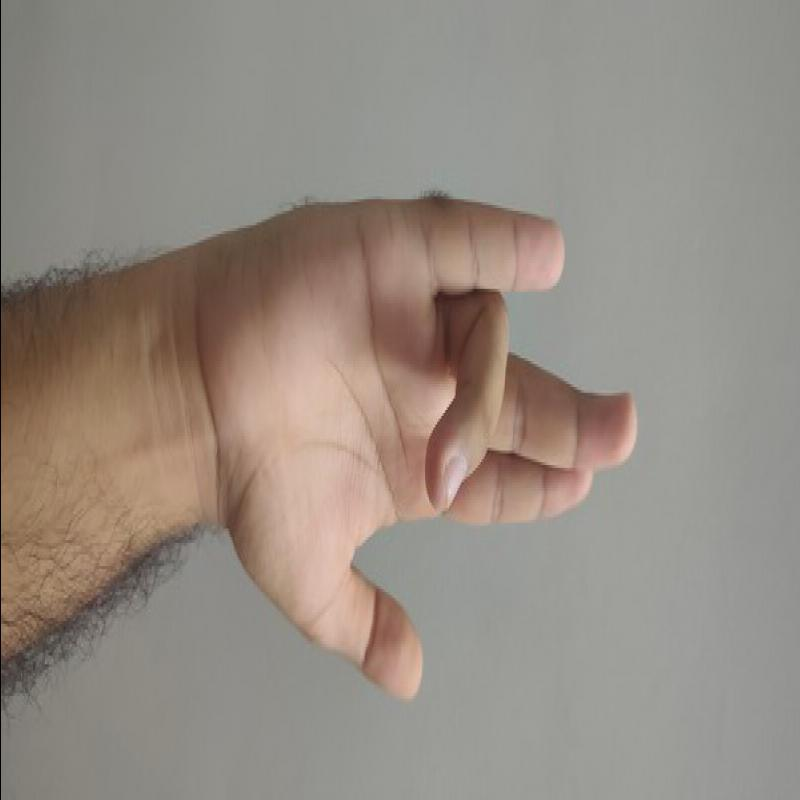Pathaaka: (202, 174, 644, 712)
